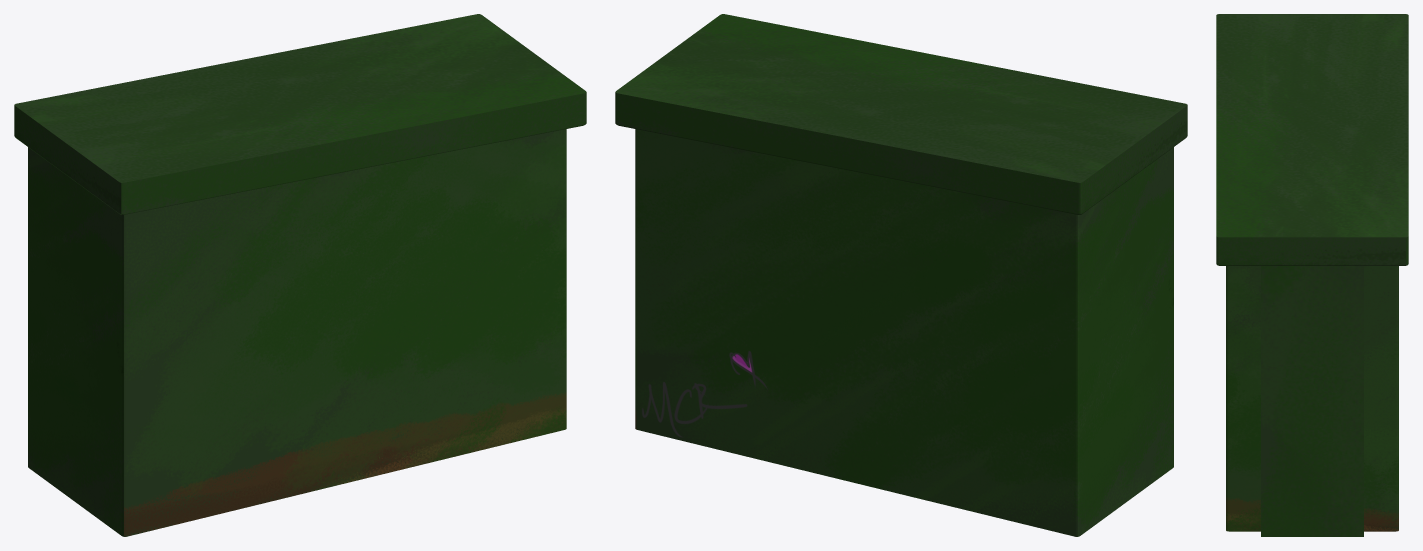
The model's file is AmmoBox.fbx.
The picture shows the model from 3 angles, left to right: view 1: azimuth 30°, elevation 25°; view 2: azimuth 150°, elevation 25°; view 3: azimuth 270°, elevation 25°; orthographic projection. The views are drawn at different scales.
Visible parts, largest first — view 1: pCube3; view 2: pCube3; view 3: pCube3.
Boxes of the visible parts, x1,y1,x2,y2 form: pCube3: (14,14,586,536); pCube3: (615,14,1187,536); pCube3: (1216,14,1408,536).
Bounding box in the file's own units: 17.8 × 13.13 × 7.13.
1 material, 1 textured.
